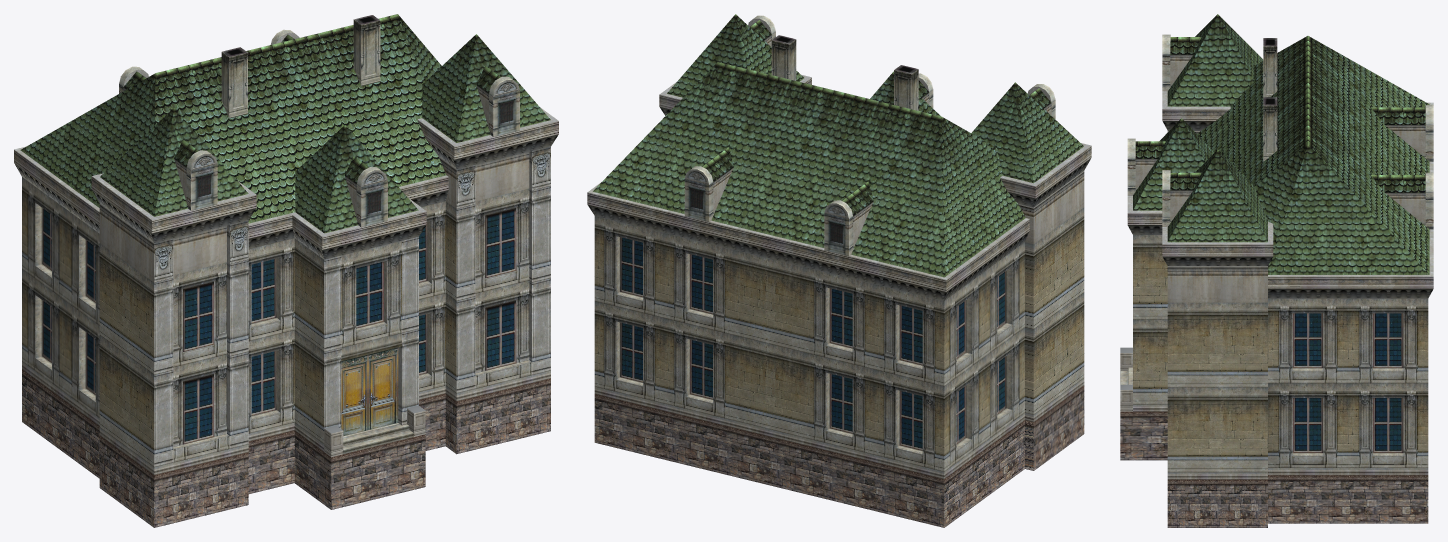
Rendered from rd_vil6.glb.
The picture shows the model from 3 angles, left to right: view 1: azimuth 30°, elevation 25°; view 2: azimuth 150°, elevation 25°; view 3: azimuth 270°, elevation 25°; orthographic projection. The views are drawn at different scales.
Parts seen in each view (by area): view 1: rd_vil6-col; view 2: rd_vil6-col; view 3: rd_vil6-col.
Part boxes in pixels (x1,y1,x2,y2): rd_vil6-col: (14, 14, 558, 527); rd_vil6-col: (587, 14, 1091, 527); rd_vil6-col: (1120, 14, 1433, 527).
Size of the model in its own units: 21.53 by 20.32 by 15.64.
Materials: 10 (10 with a texture image).
